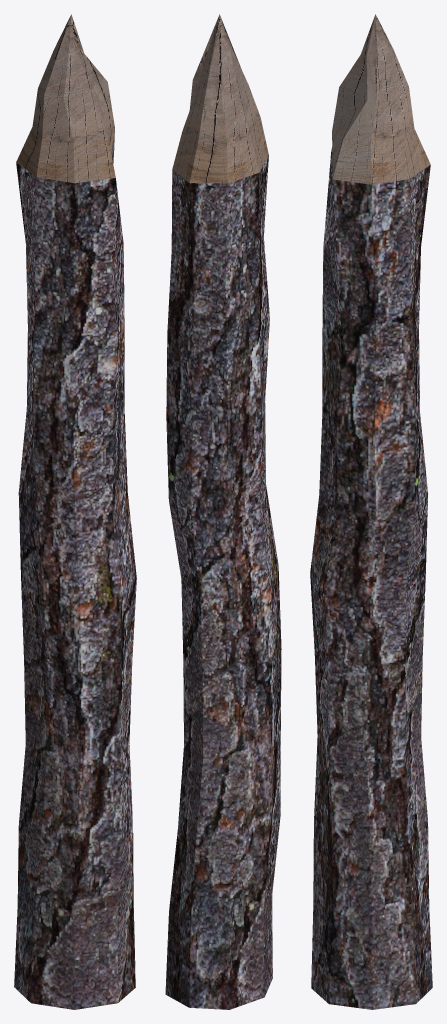
The model's file is SpikePillar.fbx.
3 renders of one model, left to right at view 1: azimuth 90°, elevation 25°; view 2: azimuth 150°, elevation 25°; view 3: azimuth 270°, elevation 25°, orthographic.
Visible parts, largest first — view 1: SpikePillar; view 2: SpikePillar; view 3: SpikePillar.
Part boxes in pixels (x1,y1,x2,y2): SpikePillar: (14,14,136,1009); SpikePillar: (165,14,281,1009); SpikePillar: (310,14,432,1009).
Size of the model in its own units: 22.46 by 223 by 25.46.
Materials: 1 (1 with a texture image).
